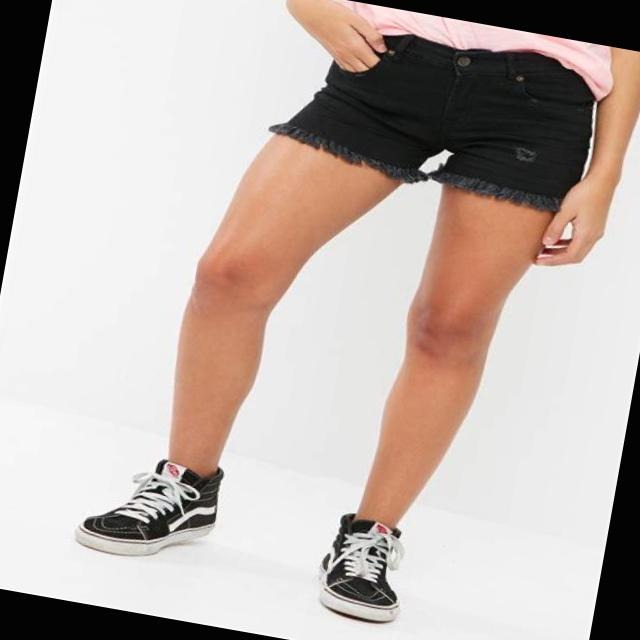short: (263, 10, 607, 215)
